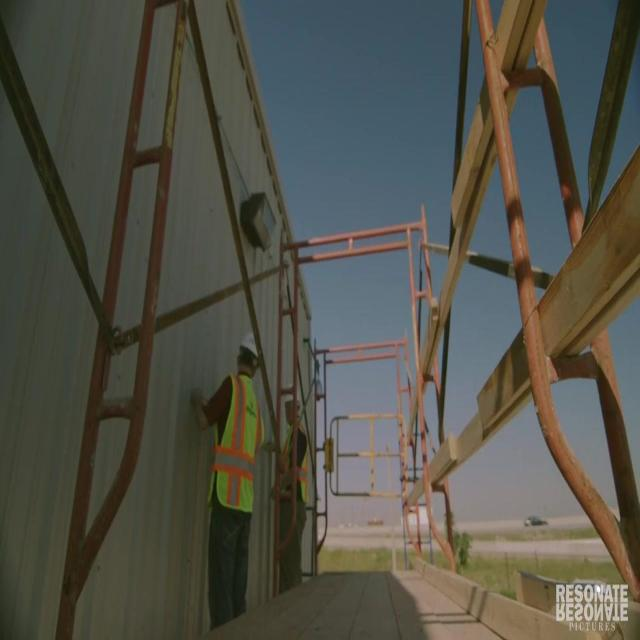Vest: (210, 372, 266, 516), (278, 427, 309, 505)
